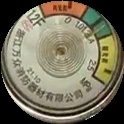green: (81, 7, 114, 37)
needle: (83, 25, 108, 42)
red: (39, 1, 90, 20)
yellow: (95, 35, 119, 90)
